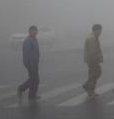person: (16, 25, 43, 100), (82, 23, 103, 98)
